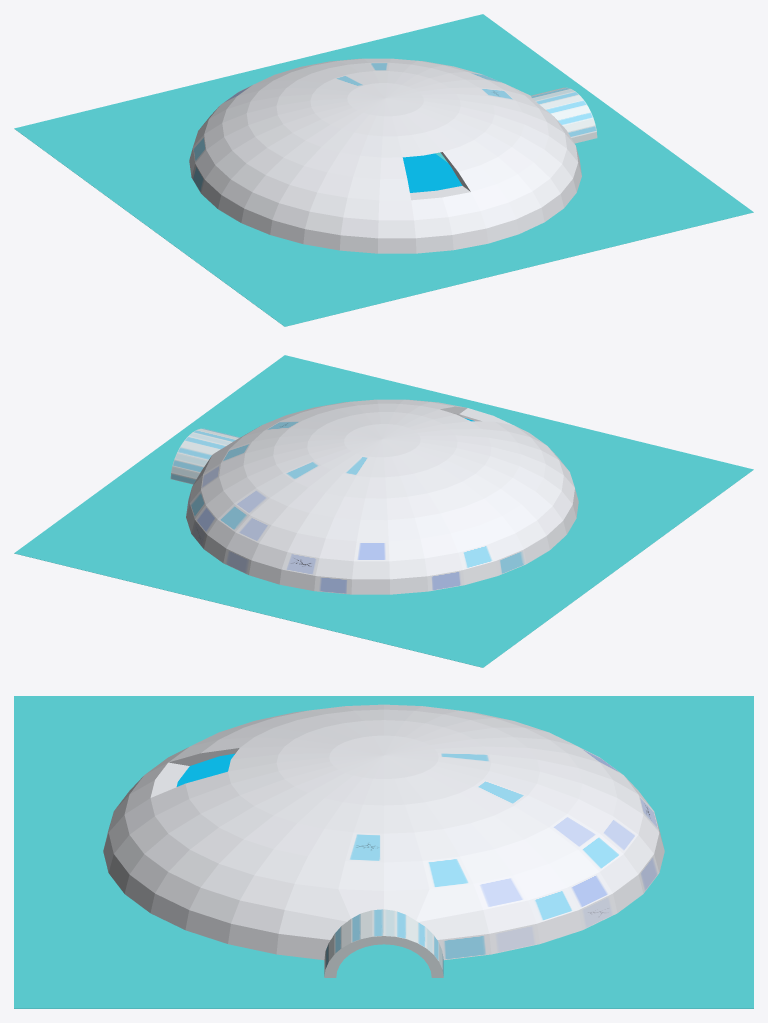
The model's file is igloo.loft.gltf.
3 views of the same model, one above another, from view 1: azimuth 30°, elevation 25°; view 2: azimuth 150°, elevation 25°; view 3: azimuth 270°, elevation 25° (orthographic). The views are drawn at different scales.
Visible parts, largest first — view 1: Cube, Cylinder; view 2: Cube, Cylinder; view 3: Cube, Cylinder.
Part boxes in pixels (bbox=[...]): Cube: bbox=[14, 14, 753, 326]; Cylinder: bbox=[189, 58, 597, 253]; Cube: bbox=[14, 355, 753, 667]; Cylinder: bbox=[170, 399, 578, 594]; Cube: bbox=[14, 696, 753, 1008]; Cylinder: bbox=[103, 704, 664, 977].
Size of the model in its own units: 60 by 8.78 by 60.
Materials: 4 (4 with a texture image).
